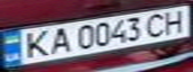0: (72, 22, 96, 51), (93, 19, 115, 47)
3: (124, 15, 148, 43)
4: (109, 17, 130, 45)
A: (45, 25, 75, 55)
C: (142, 10, 172, 38)
H: (160, 7, 190, 35)
K: (15, 28, 54, 61)
